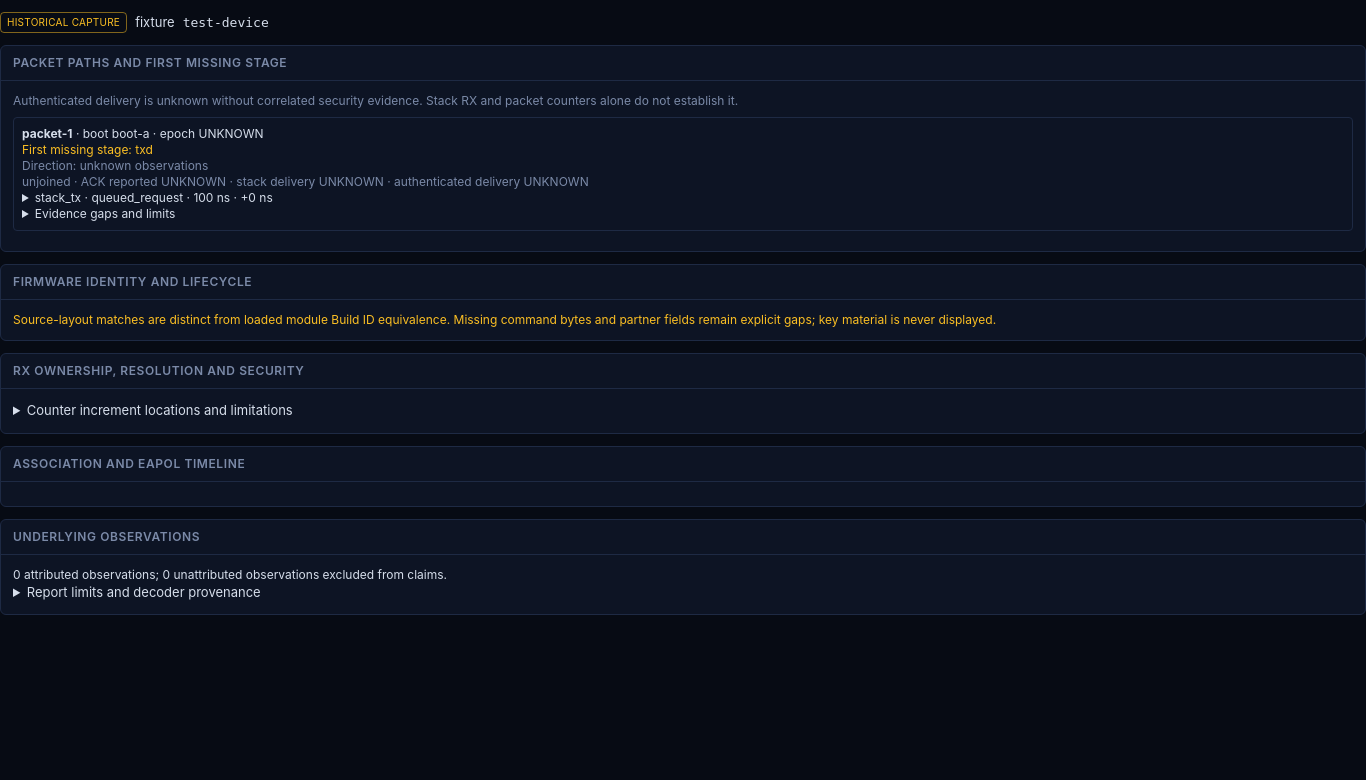
Test: historical packet evidence exposes first gap and raw observations
The width and height of the screenshot is (1366, 780).
Check: the text "HISTORICAL CAPTURE" is shown, box [0,12,127,33]
Check: the text "First missing stage: txd" is shown, box [22,142,153,157]
Click the heading "stack_tx · queued_request · 100 ns · +0 ns".
click(154, 198)  # box [35,190,273,205]
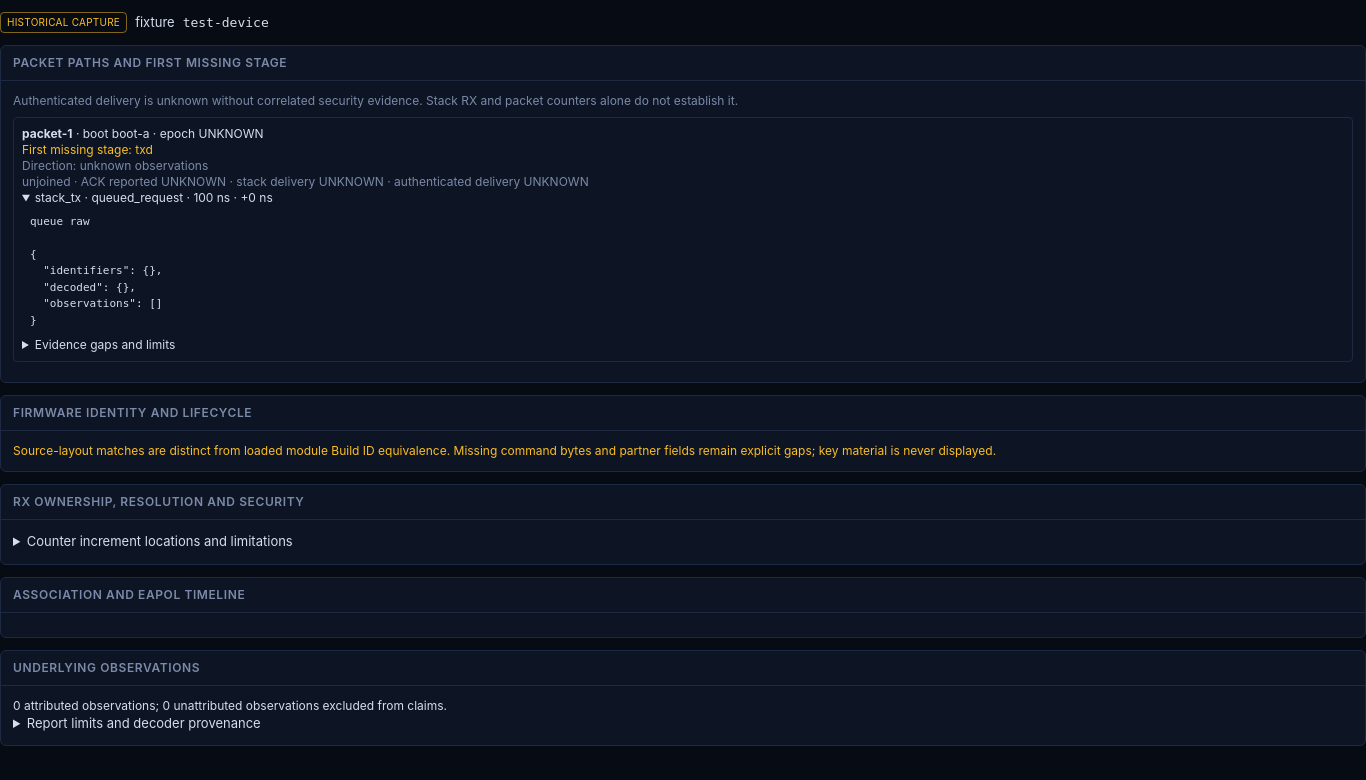
Check: the text "queue raw" is shown, box [30,215,90,228]
